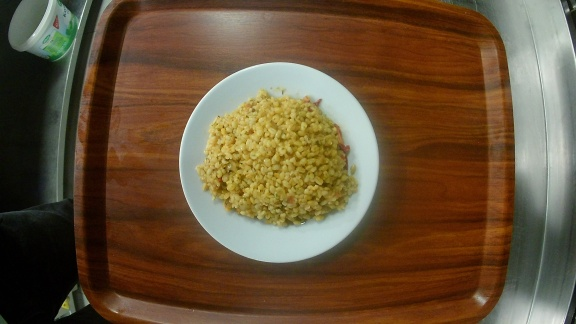bulgur: (179, 61, 380, 265)
